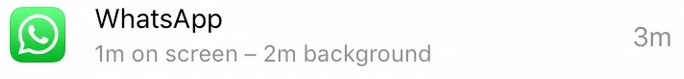name: (85, 6, 240, 35)
time: (258, 41, 301, 69), (90, 41, 129, 68)
